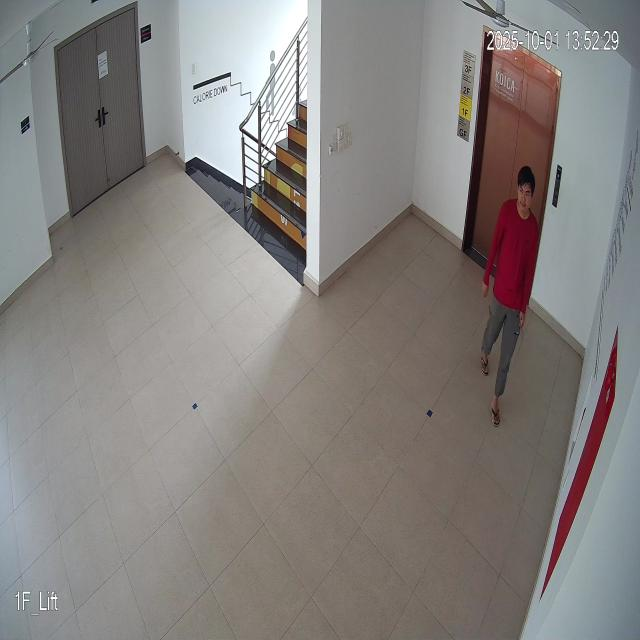face: (512, 166, 538, 218)
